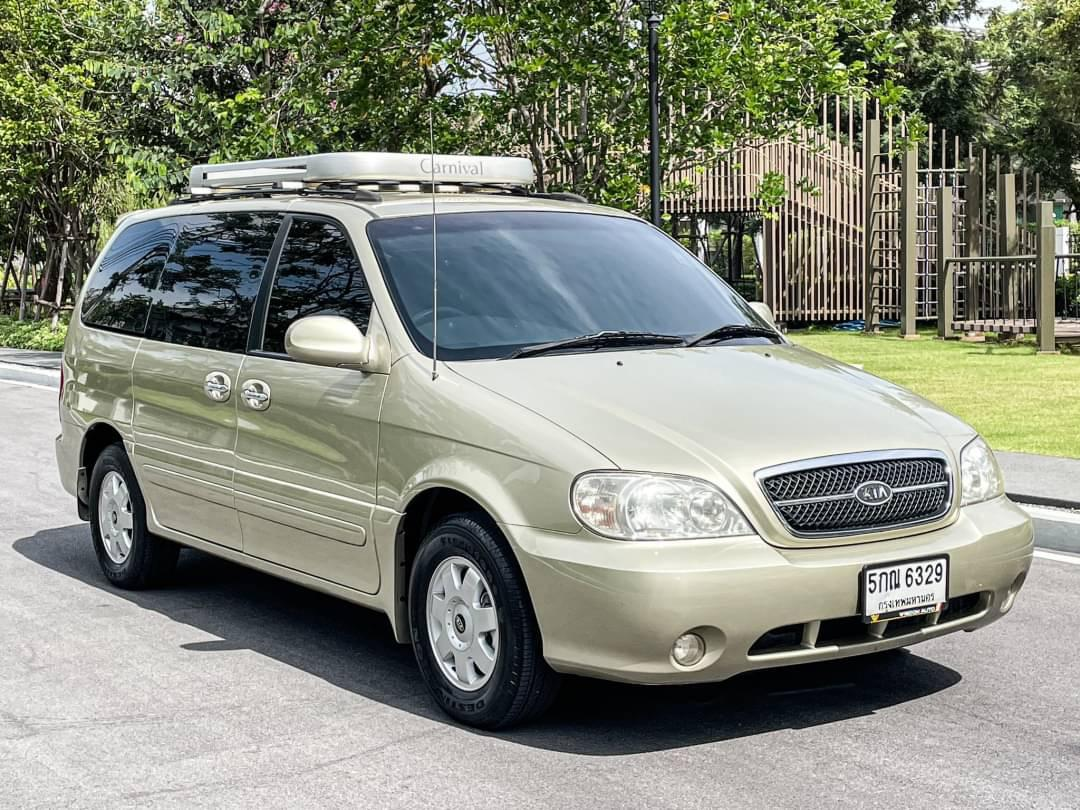license-plate: (856, 553, 956, 630)
